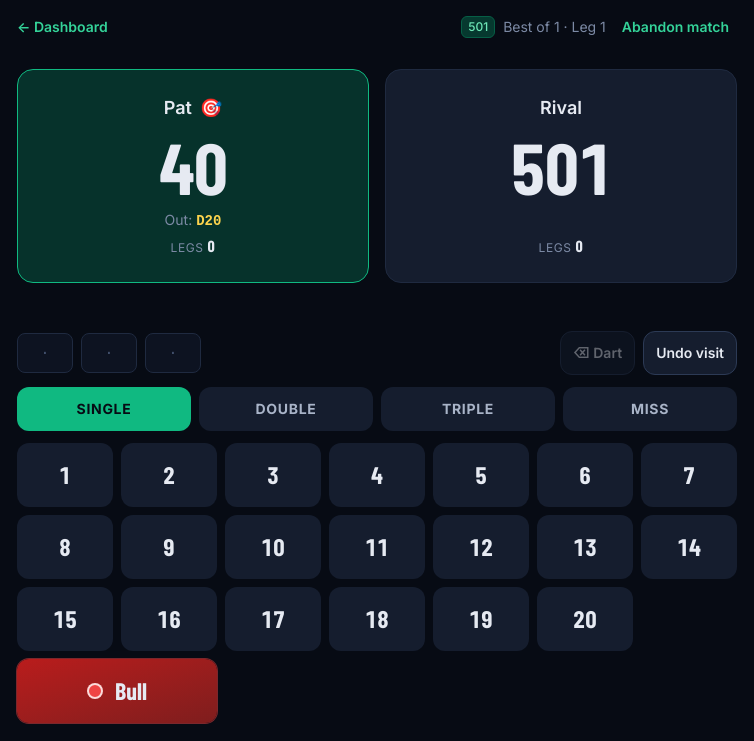
Test case: LiveScoringPage resync after failures › refetches the match when a visit is rejected
Expected: the text "40" is shown, [159, 123, 227, 209]
Click the button "20".
click(585, 619)  # box [537, 587, 633, 651]
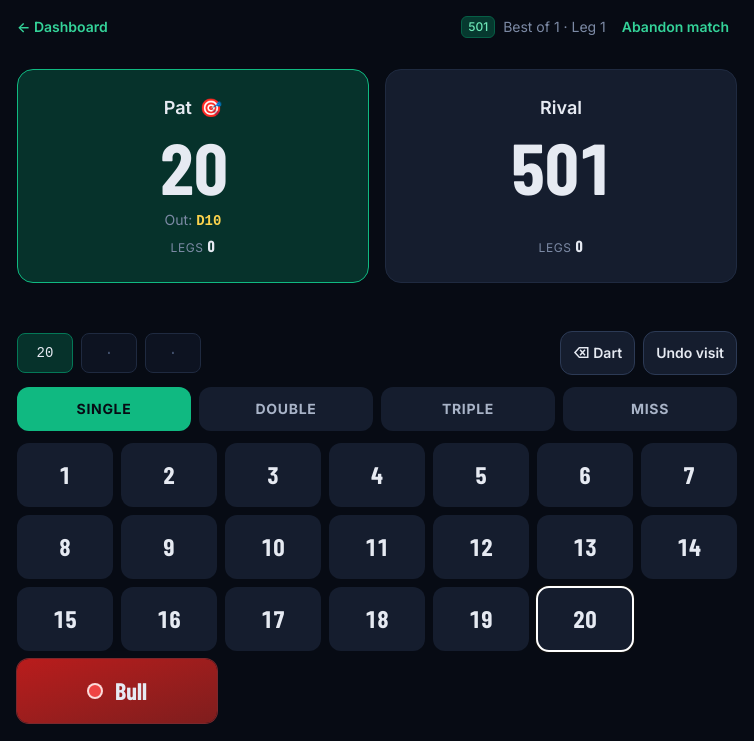
Click the button "20".
click(585, 619)  # box [537, 587, 633, 651]
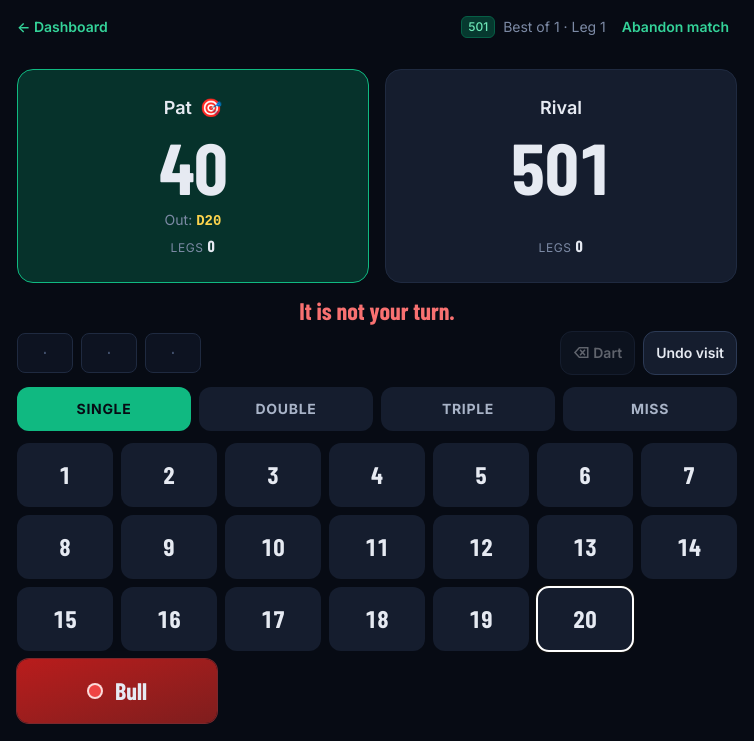
Expected: the message reads "It is not your turn.", [299, 296, 455, 325]
